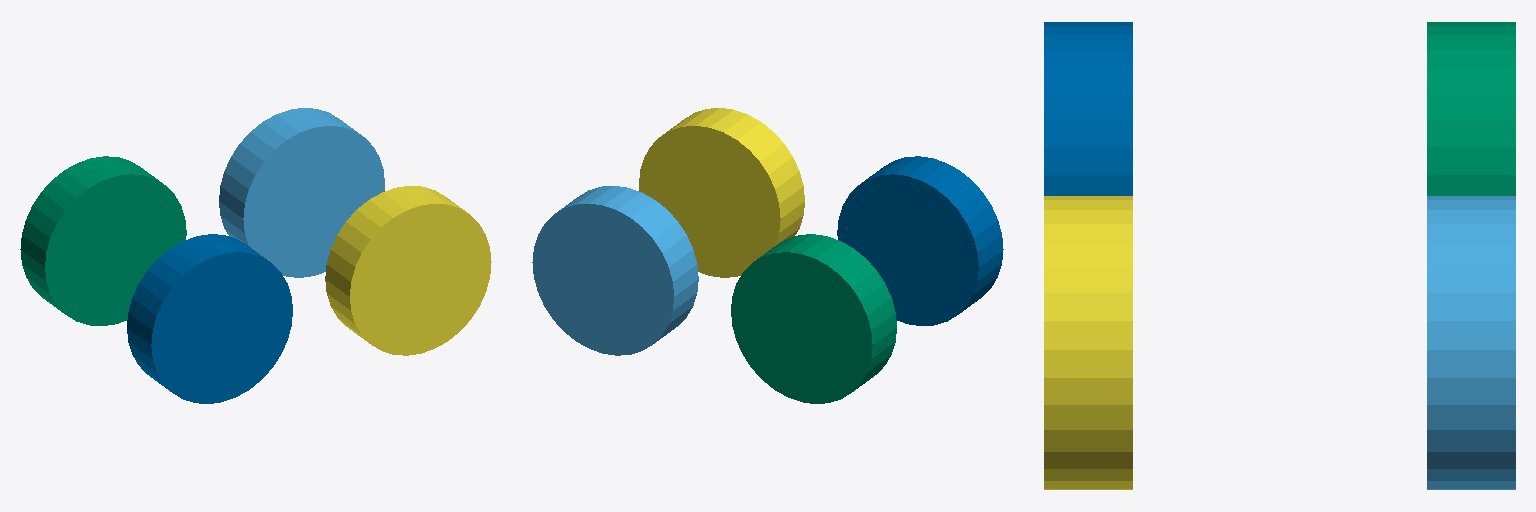
The robot description file, URDF, robot "CarProto":
<?xml version="1.0"?>
<robot name="CarProto">
  <!-- Links and joints exported from Webots (do not modify) -->
  <link name="base_link">
  </link>
  <joint name="motor_FL" type="continuous">
    <parent link="base_link"/>
    <child link="weel_FL_link"/>
    <axis xyz="0 -0.000003 -1"/>
    <limit effort="16" velocity="3"/>
    <origin xyz="0.07 0.065 0.05" rpy="1.5708 0 0"/>
  </joint>
  <link name="weel_FL_link">
    <visual>
      <geometry>
        <cylinder radius="0.05" length="0.03"/>
      </geometry>
    </visual>
    <collision>
      <geometry>
        <cylinder radius="0.05" length="0.03"/>
      </geometry>
    </collision>
  </link>
  <joint name="motor_BL" type="continuous">
    <parent link="base_link"/>
    <child link="weel_BL_link"/>
    <axis xyz="0 -0.000003 -1"/>
    <limit effort="16" velocity="3"/>
    <origin xyz="-0.07 0.065 0.05" rpy="1.5708 0 0"/>
  </joint>
  <link name="weel_BL_link">
    <visual>
      <geometry>
        <cylinder radius="0.05" length="0.03"/>
      </geometry>
    </visual>
    <collision>
      <geometry>
        <cylinder radius="0.05" length="0.03"/>
      </geometry>
    </collision>
  </link>
  <joint name="motor_FR" type="continuous">
    <parent link="base_link"/>
    <child link="weel_FR_link"/>
    <axis xyz="0 -0.000004 -1"/>
    <limit effort="16" velocity="3"/>
    <origin xyz="0.07 -0.065 0.05" rpy="1.5708 0 0"/>
  </joint>
  <link name="weel_FR_link">
    <visual>
      <geometry>
        <cylinder radius="0.05" length="0.03"/>
      </geometry>
    </visual>
    <collision>
      <geometry>
        <cylinder radius="0.05" length="0.03"/>
      </geometry>
    </collision>
  </link>
  <joint name="motor_BR" type="continuous">
    <parent link="base_link"/>
    <child link="weel_BR_link"/>
    <axis xyz="0 -0.000004 -1"/>
    <limit effort="16" velocity="3"/>
    <origin xyz="-0.07 -0.065 0.05" rpy="1.5708 0 0"/>
  </joint>
  <link name="weel_BR_link">
    <visual>
      <geometry>
        <cylinder radius="0.05" length="0.03"/>
      </geometry>
    </visual>
    <collision>
      <geometry>
        <cylinder radius="0.05" length="0.03"/>
      </geometry>
    </collision>
  </link>

  <!-- Webots plugin: differential drive controller -->
  <webots>
    <plugin type="diffdrive">
      <!-- Use the motor/joint names exactly as they appear above -->
      <leftJoint>motor_BL motor_FL</leftJoint>
      <rightJoint>motor_BR motor_FR</rightJoint>
      <wheelDistance>0.13</wheelDistance>   <!-- track width in meters -->
      <wheelRadius>0.05</wheelRadius>       <!-- wheel radius in meters -->
      <odometryTopic>/odom</odometryTopic>
      <odometryFrame>odom</odometryFrame>
      <robotBaseFrame>base_link</robotBaseFrame>
    </plugin>
  </webots>
</robot>

--- Render facts (derived) ---
The picture shows the robot from 3 angles, left to right: view 1: azimuth 30°, elevation 25°; view 2: azimuth 150°, elevation 25°; view 3: azimuth 270°, elevation 25°; orthographic projection.
Robot: CarProto — 5 links, 4 joints (4 continuous); root link base_link; default pose: every joint at zero.
Visible links, largest first — view 1: weel_FR_link, weel_BR_link, weel_BL_link, weel_FL_link; view 2: weel_FL_link, weel_BL_link, weel_BR_link, weel_FR_link; view 3: weel_FL_link, weel_FR_link, weel_BL_link, weel_BR_link.
Boxes of the visible links, x1,y1,x2,y2 form: weel_FR_link: (325, 186, 491, 355); weel_BR_link: (127, 234, 292, 403); weel_BL_link: (20, 156, 186, 325); weel_FL_link: (219, 108, 384, 277); weel_FL_link: (532, 186, 698, 355); weel_BL_link: (731, 234, 896, 403); weel_BR_link: (837, 156, 1003, 325); weel_FR_link: (639, 108, 804, 277); weel_FL_link: (1427, 196, 1515, 489); weel_FR_link: (1044, 196, 1132, 489); weel_BL_link: (1427, 22, 1515, 195); weel_BR_link: (1044, 22, 1132, 195).
Bounding box of the posed robot: 0.24 × 0.16 × 0.1 m (x, y, z).
Geometry: primitives only (box / cylinder / sphere), no mesh files.
